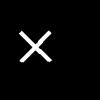single_crochet: (19, 31, 50, 61)
